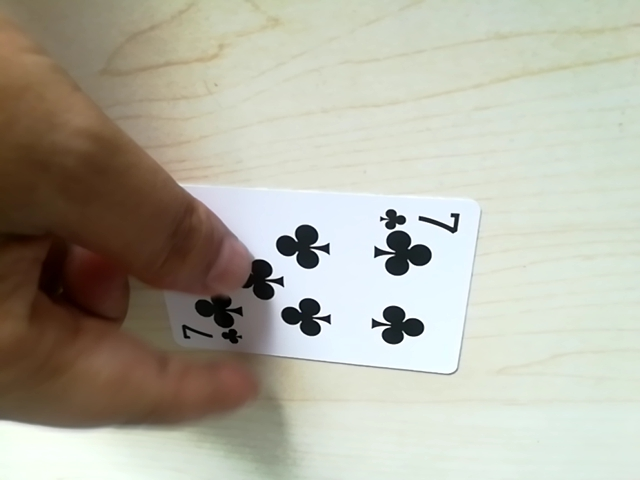mh 7: (175, 305, 247, 348), (391, 202, 458, 230)
